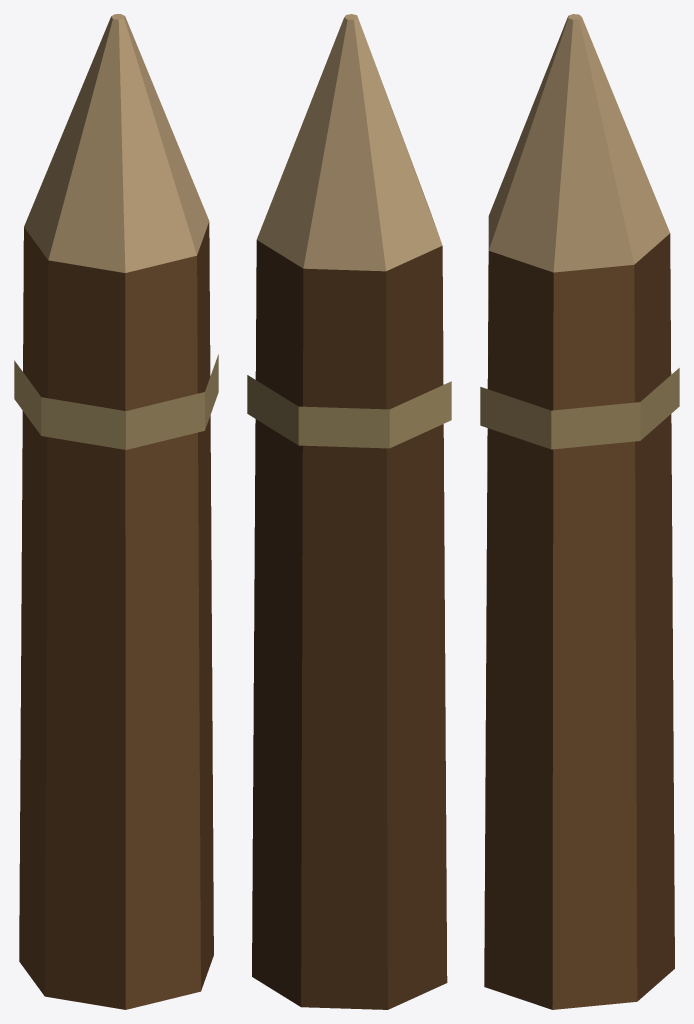
The model's file is palisade_log.glb.
The picture shows the model from 3 angles, left to right: view 1: azimuth 30°, elevation 25°; view 2: azimuth 150°, elevation 25°; view 3: azimuth 270°, elevation 25°; orthographic projection.
Visible parts, largest first — view 1: palisade_log; view 2: palisade_log; view 3: palisade_log.
Part boxes in pixels (x1,y1,x2,y2): palisade_log: (14, 14, 218, 1009); palisade_log: (247, 14, 451, 1009); palisade_log: (480, 14, 679, 1009).
Bounding box in the file's own units: 0.8579 × 4.4 × 0.8364.
